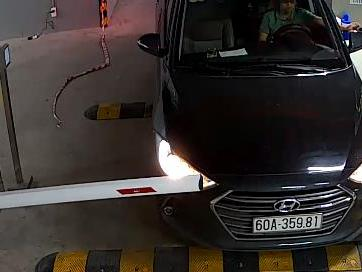car: (254, 213, 325, 233)
